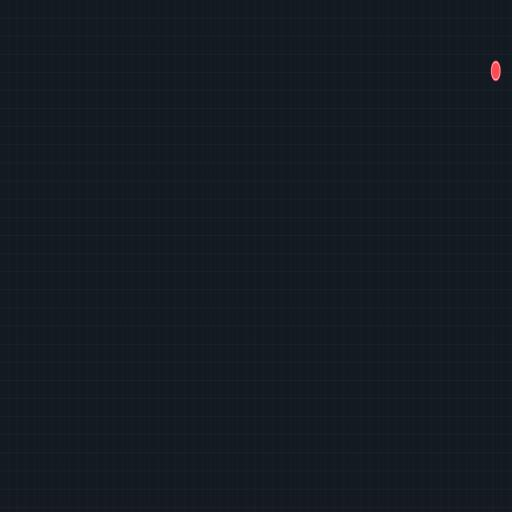Target-Detection: (491, 61, 501, 81)
